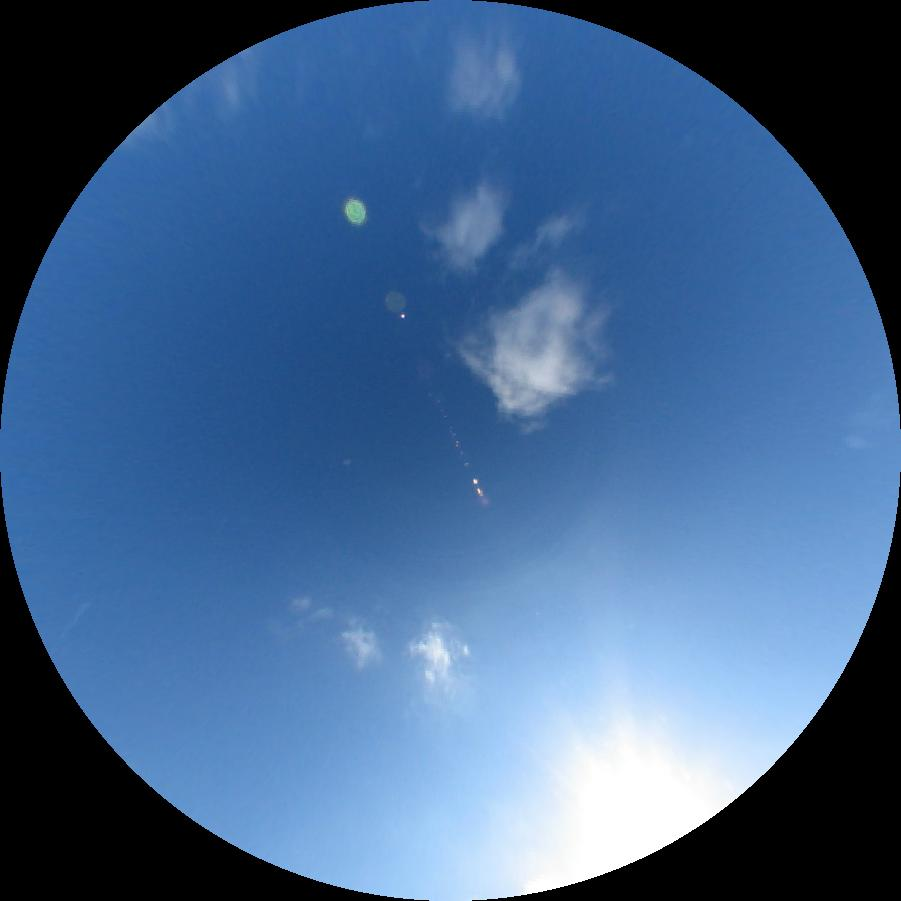contrail young: (47, 603, 90, 654)
sun: (571, 758, 720, 879)
